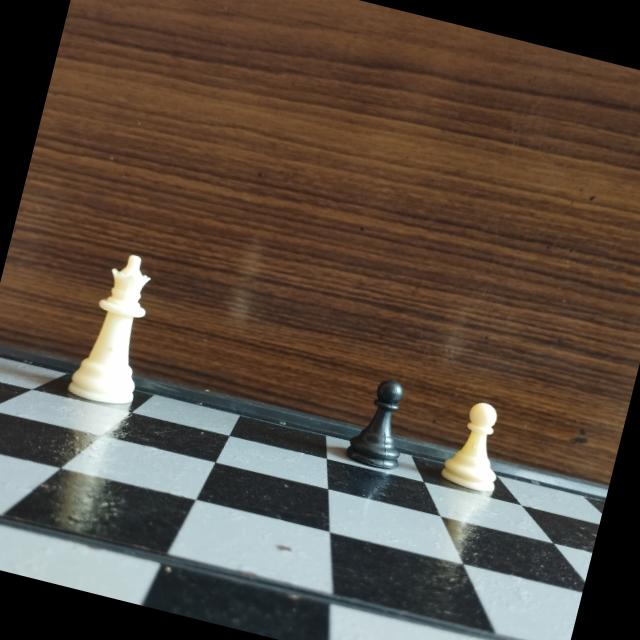Black Pawn: (341, 366, 424, 478)
White Pawn: (434, 391, 520, 502)
White Queen: (64, 241, 172, 415)
